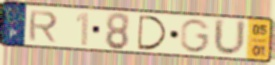1: (75, 11, 91, 46)
8: (104, 11, 131, 52)
D: (137, 14, 169, 52)
G: (179, 18, 212, 55)
R: (27, 10, 60, 44)
U: (212, 17, 248, 58)
